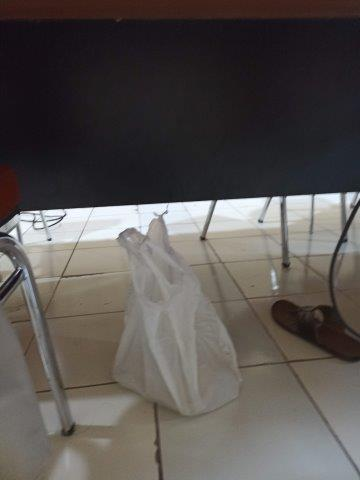plastik: (109, 213, 242, 414)
